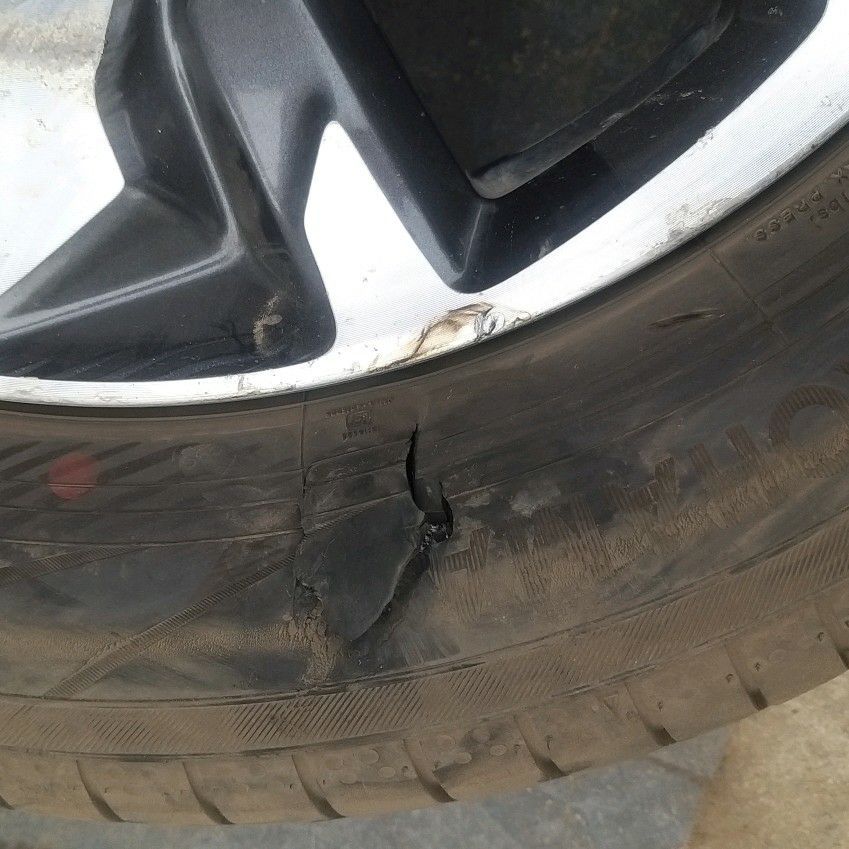cut: (345, 417, 462, 657), (644, 307, 724, 333)
